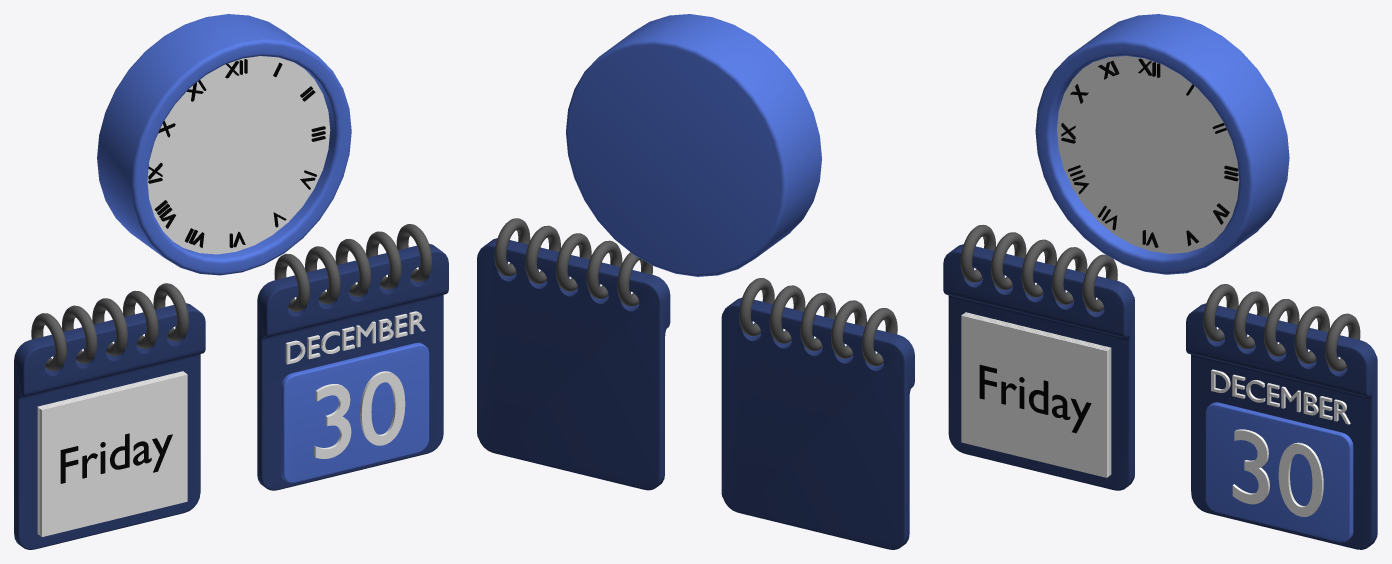
The model's file is surreal_clock.glb.
3 views of the same model, side by side, from view 1: azimuth 30°, elevation 25°; view 2: azimuth 150°, elevation 25°; view 3: azimuth 330°, elevation 25° (orthographic).
Parts seen in each view (by area): view 1: Cylinder, Plane, Plane.002, Plane.001, Cube, Torus.001, Torus, Text.001, Text, Text.002; view 2: Cylinder, Plane.001, Plane, Torus.001, Torus; view 3: Cylinder, Plane, Plane.002, Plane.001, Cube, Torus, Torus.001, Text.001, Text, Text.002.
Boxes of the visible parts, bbox=[...] form: Cylinder: bbox=[97, 14, 351, 275]; Plane: bbox=[257, 243, 448, 490]; Plane.002: bbox=[37, 371, 187, 536]; Plane.001: bbox=[14, 303, 205, 549]; Cube: bbox=[281, 342, 429, 483]; Torus.001: bbox=[31, 283, 188, 370]; Torus: bbox=[274, 224, 432, 311]; Text.001: bbox=[314, 371, 405, 458]; Text: bbox=[285, 311, 425, 364]; Text.002: bbox=[60, 433, 172, 483]; Cylinder: bbox=[566, 14, 821, 276]; Plane.001: bbox=[721, 298, 914, 549]; Plane: bbox=[477, 238, 670, 490]; Torus.001: bbox=[739, 278, 897, 366]; Torus: bbox=[494, 218, 652, 306]; Cylinder: bbox=[1035, 14, 1289, 274]; Plane: bbox=[1186, 303, 1377, 549]; Plane.002: bbox=[961, 312, 1111, 477]; Plane.001: bbox=[943, 244, 1134, 490]; Cube: bbox=[1205, 402, 1353, 542]; Torus: bbox=[1203, 284, 1360, 371]; Torus.001: bbox=[960, 224, 1117, 312]; Text.001: bbox=[1232, 429, 1323, 516]; Text: bbox=[1211, 369, 1350, 424]; Text.002: bbox=[979, 364, 1091, 433].
Bounding box in the file's own units: 0.7 × 0.7382 × 0.11.
